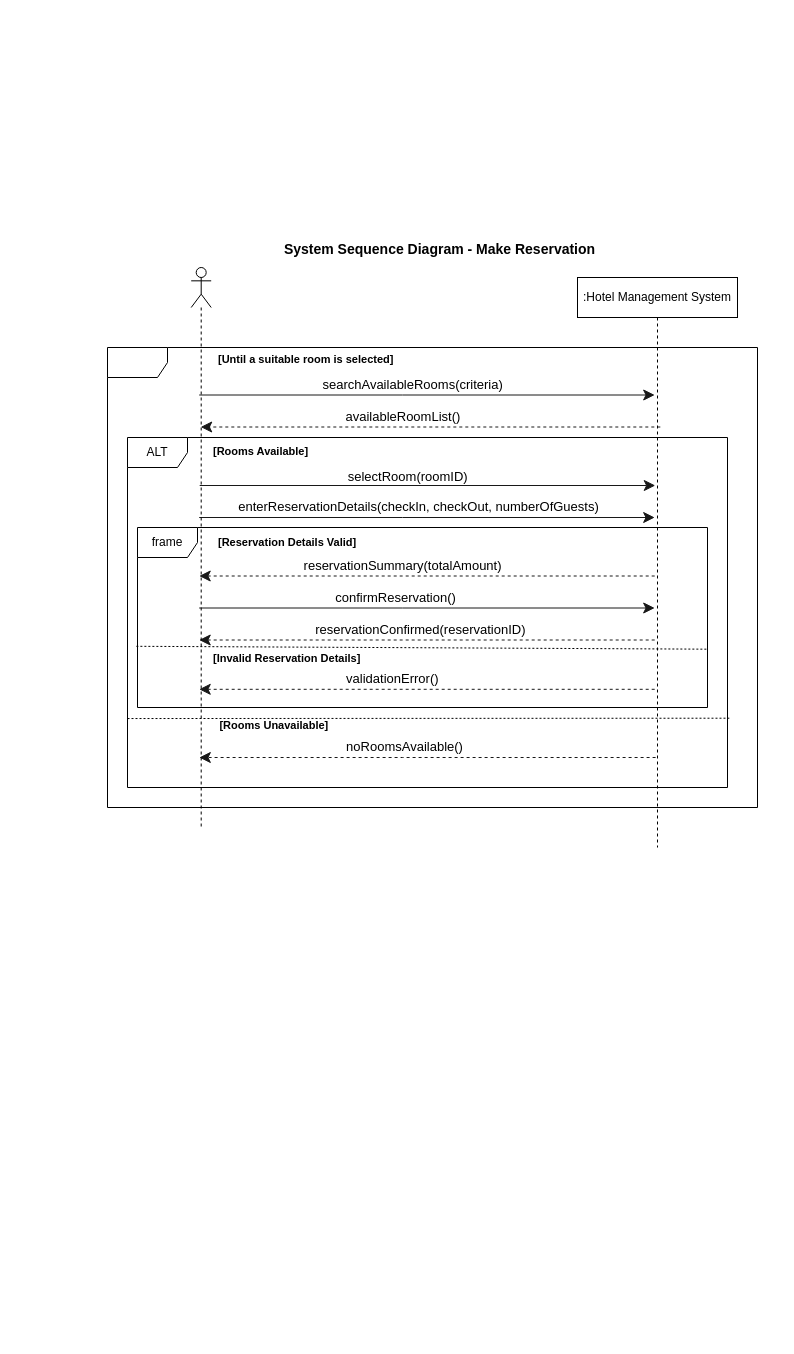
This 794x1354 diagram has some shape labels left out. The box of each missing label's shape, as (x1, y1, x2, y2) in pixels:
Guest: (190, 266, 211, 828)
LOOP: (106, 346, 758, 808)
